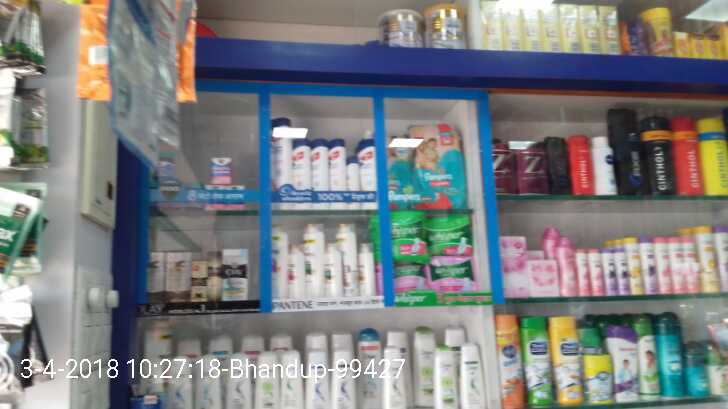vicks: (207, 156, 234, 187)
